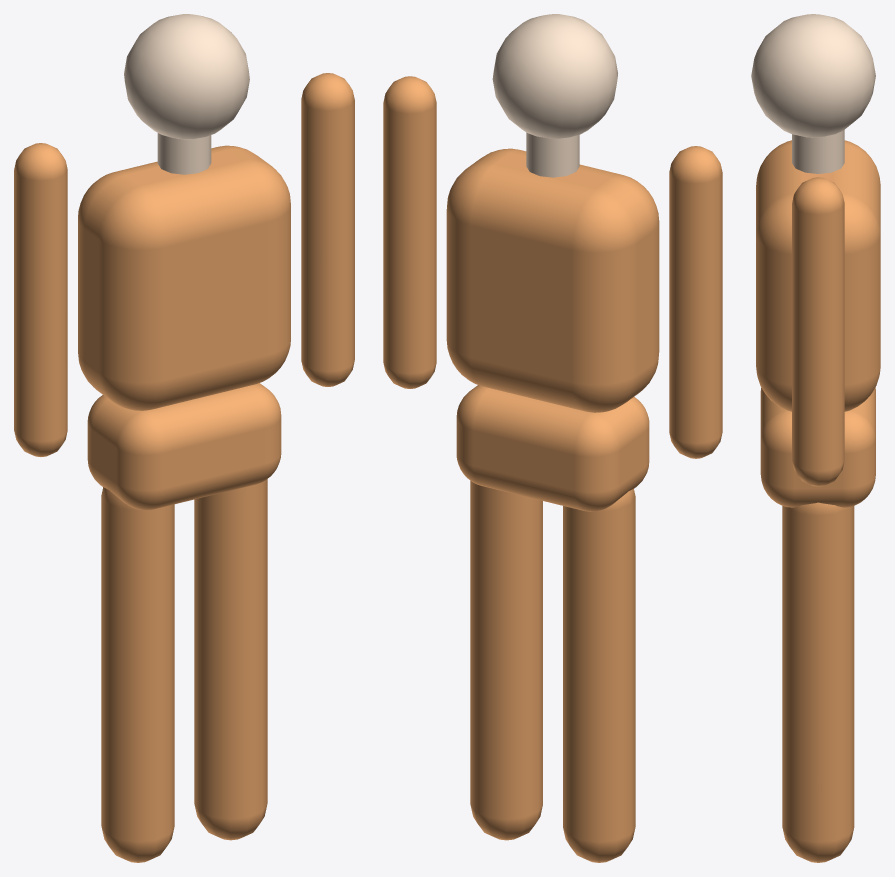
File: scout.glb
3 views of the same model, side by side, from view 1: azimuth 30°, elevation 25°; view 2: azimuth 150°, elevation 25°; view 3: azimuth 270°, elevation 25° (orthographic).
Visible parts, largest first — view 1: mesh; view 2: mesh; view 3: mesh.
Part boxes in pixels (<box>): mesh: <box>14,14,354,862</box>; mesh: <box>383,14,722,862</box>; mesh: <box>751,14,880,862</box>.
Bounding box in the file's own units: 0.79 × 1.88 × 0.27.
